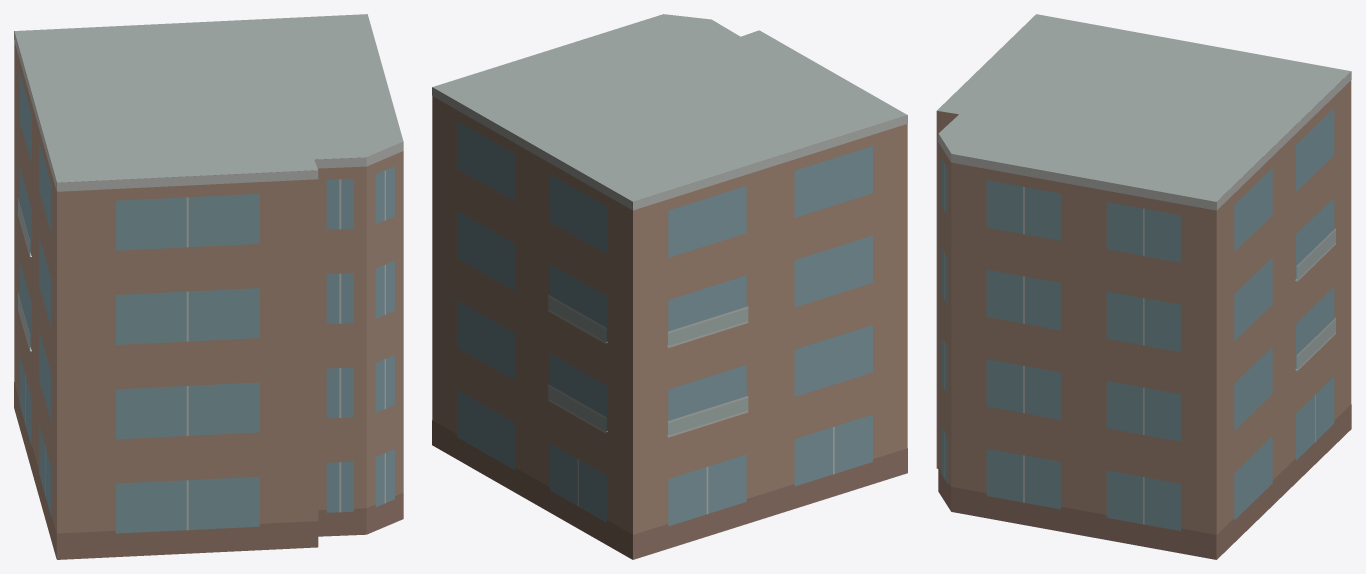
File: survey-upis-32567309.glb
3 renders of one model, left to right at view 1: azimuth 30°, elevation 25°; view 2: azimuth 150°, elevation 25°; view 3: azimuth 270°, elevation 25°, orthographic. The views are drawn at different scales.
Parts seen in each view (by area): view 1: survey-upis-32567309.tmp; view 2: survey-upis-32567309.tmp; view 3: survey-upis-32567309.tmp.
Boxes of the visible parts, <box> form: survey-upis-32567309.tmp: <box>14,14,403,559</box>; survey-upis-32567309.tmp: <box>432,14,907,559</box>; survey-upis-32567309.tmp: <box>936,14,1351,559</box>.
Bounding box in the file's own units: 11.3 × 10.03 × 10.54.
